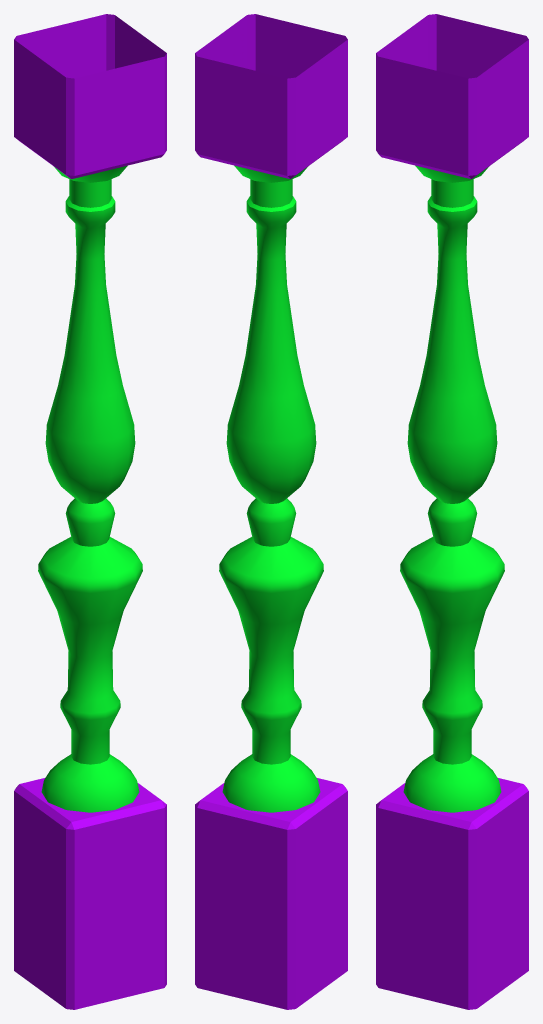
Rendered from AR-RampPost_01.FBX.
The picture shows the model from 3 angles, left to right: view 1: azimuth 30°, elevation 25°; view 2: azimuth 150°, elevation 25°; view 3: azimuth 330°, elevation 25°; orthographic projection.
Parts seen in each view (by area): view 1: AR-RampPost_01; view 2: AR-RampPost_01; view 3: AR-RampPost_01.
Part boxes in pixels (box(x1,y1,x2,y2)): AR-RampPost_01: box(14, 14, 166, 1009); AR-RampPost_01: box(195, 14, 347, 1009); AR-RampPost_01: box(376, 14, 528, 1009).
Size of the model in its own units: 9.5 by 83.96 by 9.5.
